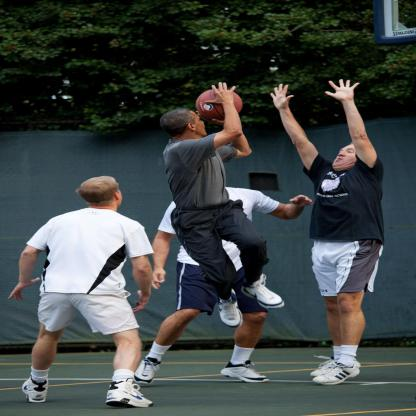face: (334, 141, 368, 168), (183, 111, 210, 135)
